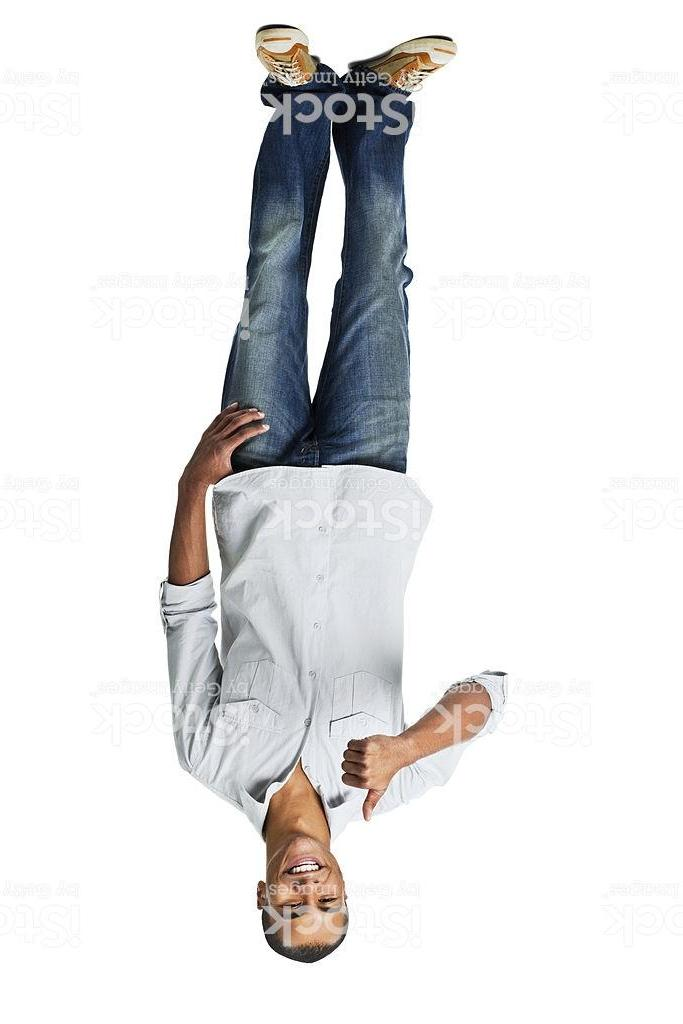thumbsdown: (339, 735, 382, 822)
